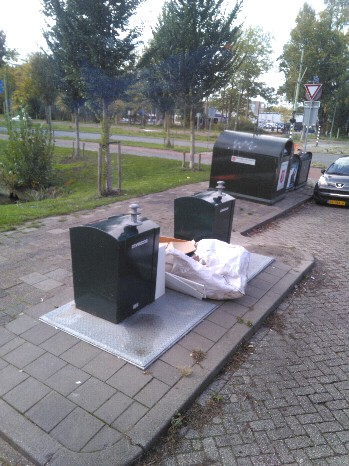Container: (83, 210, 145, 322), (186, 185, 242, 240)
Rest: (154, 235, 257, 306)
Voertuig: (335, 168, 349, 215)
